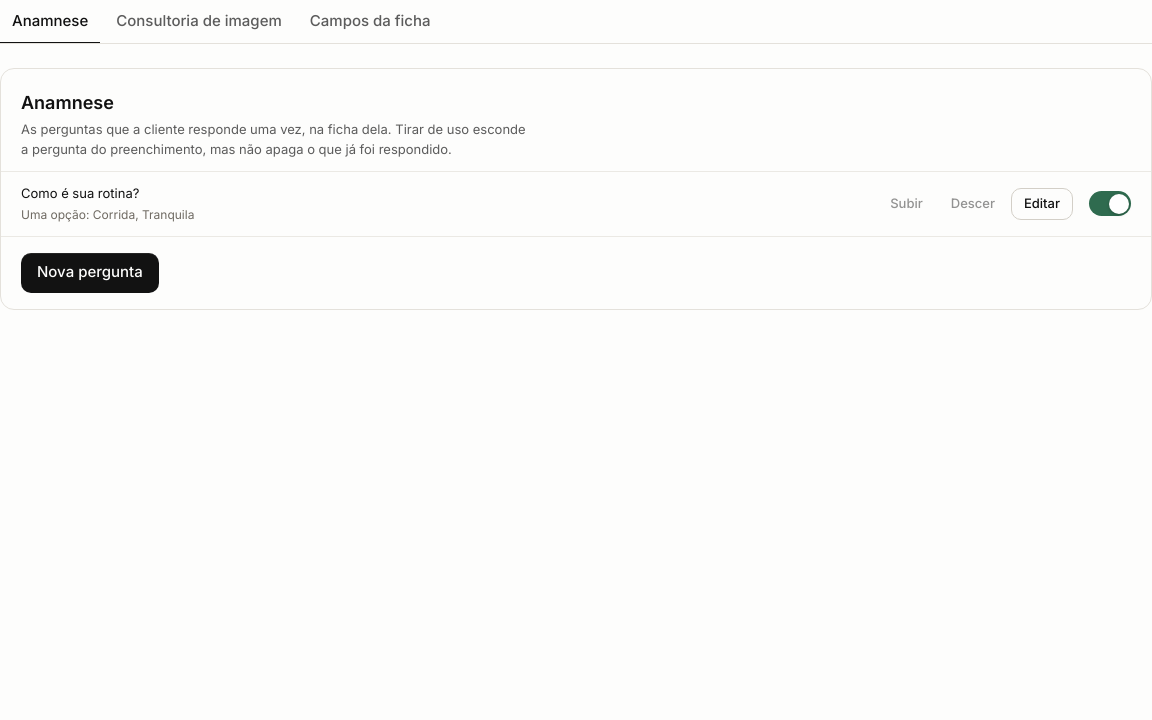
Scenario: pergunta com respostas: o tipo fica travado com a explicação
Click the button with aria-label "Editar Como é sua rotina?" at x=1042, y=204, box [1011, 188, 1073, 220]
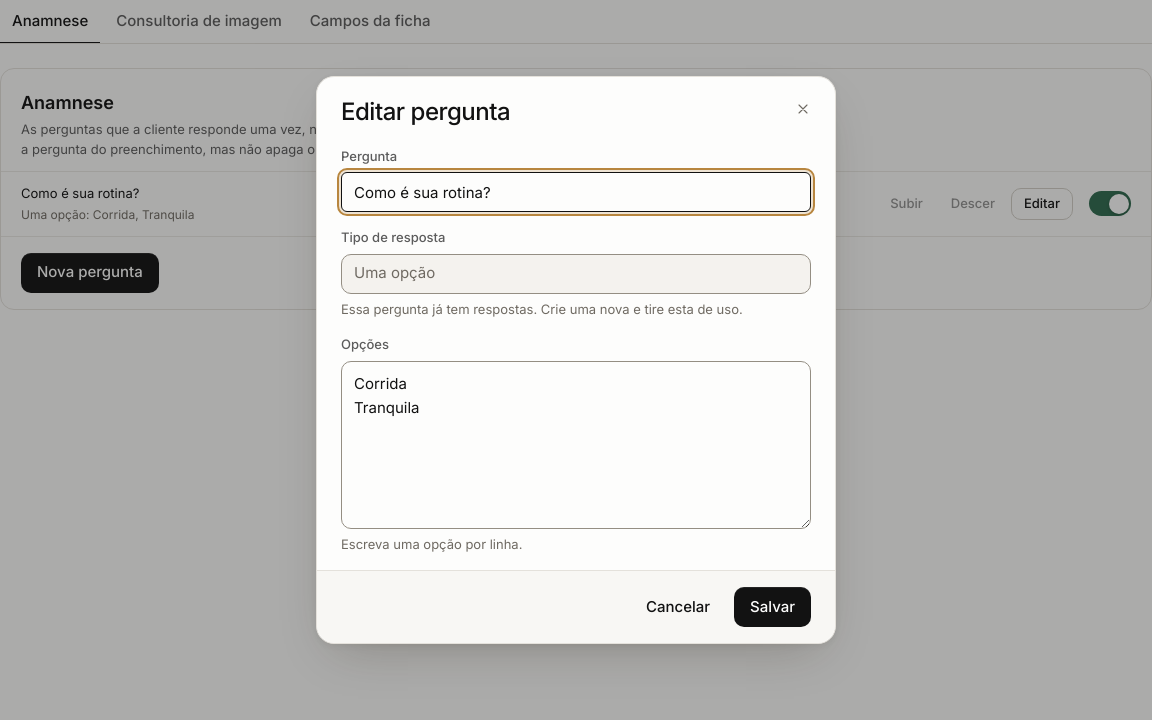
Expected: the dropdown labelled "Tipo de resposta" is disabled, [341, 254, 811, 294]
Expected: the text "Essa pergunta já tem respostas. Crie uma nova e tire esta de uso." is shown, [341, 300, 811, 319]
